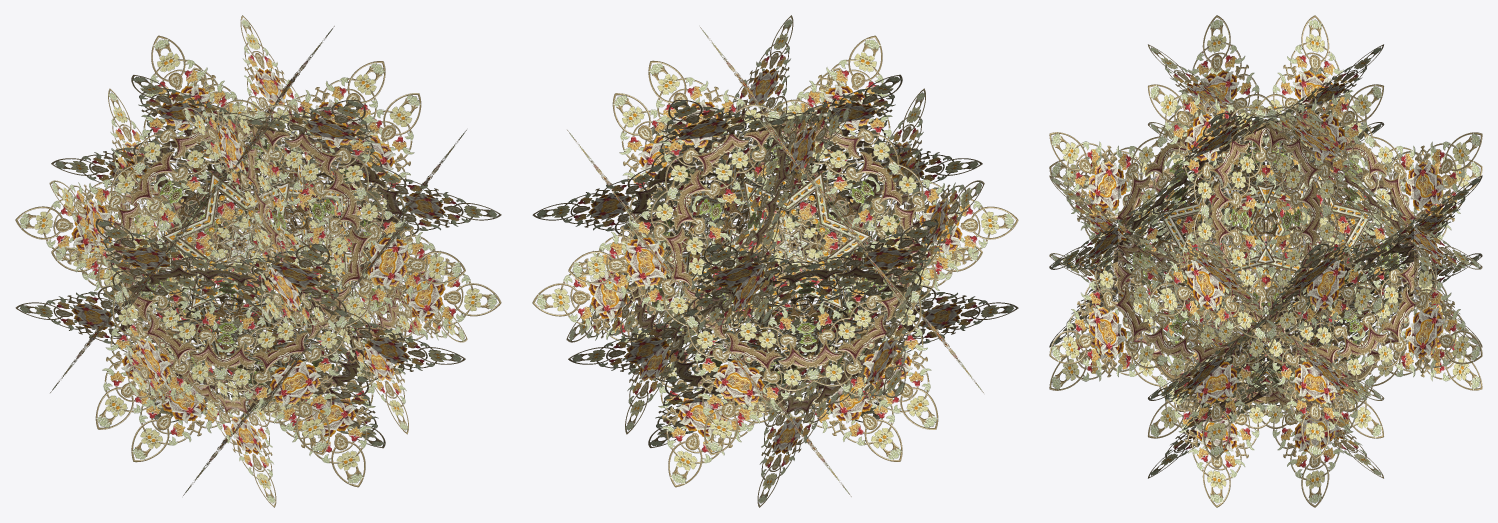
The model's file is GreatTruncatedCuboctahedron9.gltf.
3 views of the same model, side by side, from view 1: azimuth 30°, elevation 25°; view 2: azimuth 150°, elevation 25°; view 3: azimuth 270°, elevation 25° (orthographic).
Parts seen in each view (by area): view 1: GreatTruncatedCuboctahedron; view 2: GreatTruncatedCuboctahedron; view 3: GreatTruncatedCuboctahedron.
Part boxes in pixels (x1,y1,x2,y2): GreatTruncatedCuboctahedron: (15, 15, 501, 507); GreatTruncatedCuboctahedron: (532, 15, 1018, 507); GreatTruncatedCuboctahedron: (1049, 15, 1482, 507).
Bounding box in the file's own units: 1.83 × 1.83 × 1.83.
Materials: 1 (1 with a texture image).
